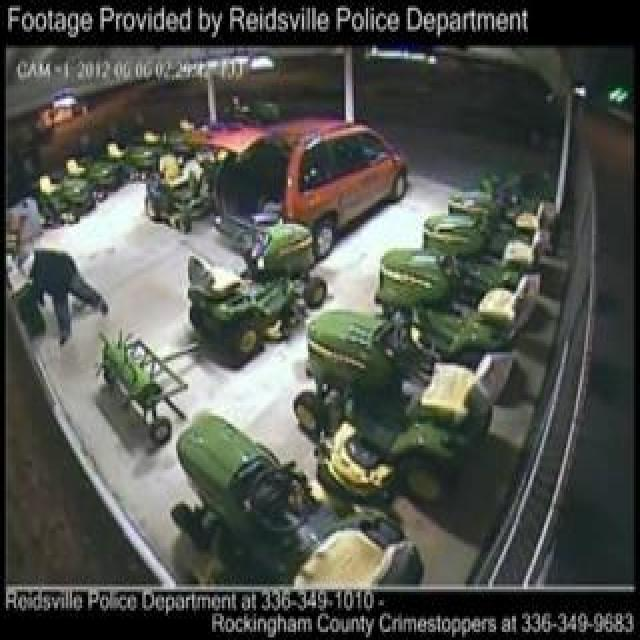thief: (0, 249, 105, 364)
